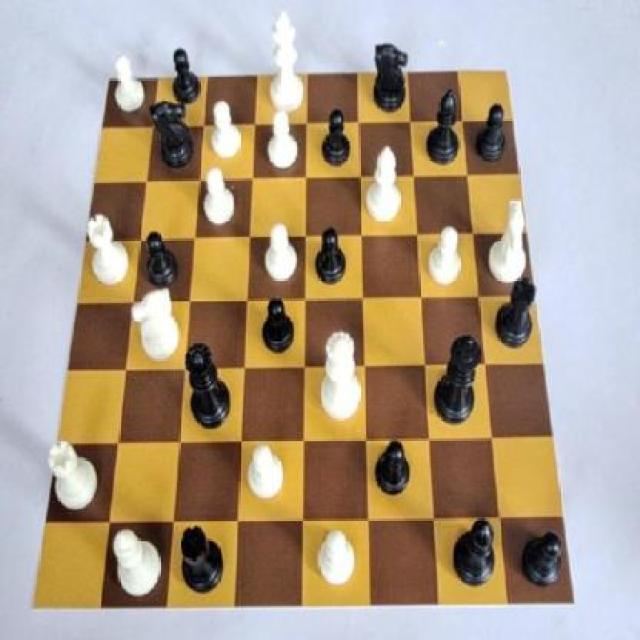bishop: (444, 511, 498, 600), (420, 85, 465, 170)
black-bishop: (430, 332, 486, 435)
black-king: (145, 92, 197, 177), (368, 37, 412, 126)
black-knight: (518, 517, 570, 593), (371, 434, 415, 514), (312, 220, 358, 288), (166, 43, 210, 114), (254, 289, 302, 352), (142, 226, 180, 299), (474, 97, 510, 169), (318, 95, 350, 173)
black-pawn: (179, 336, 236, 440)
black-queen: (175, 518, 233, 600), (494, 274, 538, 354)
black-rook: (110, 526, 166, 602), (364, 143, 404, 224)
white-bishop: (268, 8, 310, 118)
white-king: (123, 274, 184, 368), (484, 194, 530, 290)
white-knight: (242, 436, 294, 514), (311, 519, 363, 593), (205, 94, 250, 164), (256, 218, 302, 286), (424, 224, 468, 292), (265, 104, 306, 176), (200, 161, 236, 234), (110, 54, 148, 120)
white-pawn: (312, 326, 368, 436)
white-queen: (43, 436, 109, 516), (80, 203, 135, 292)
